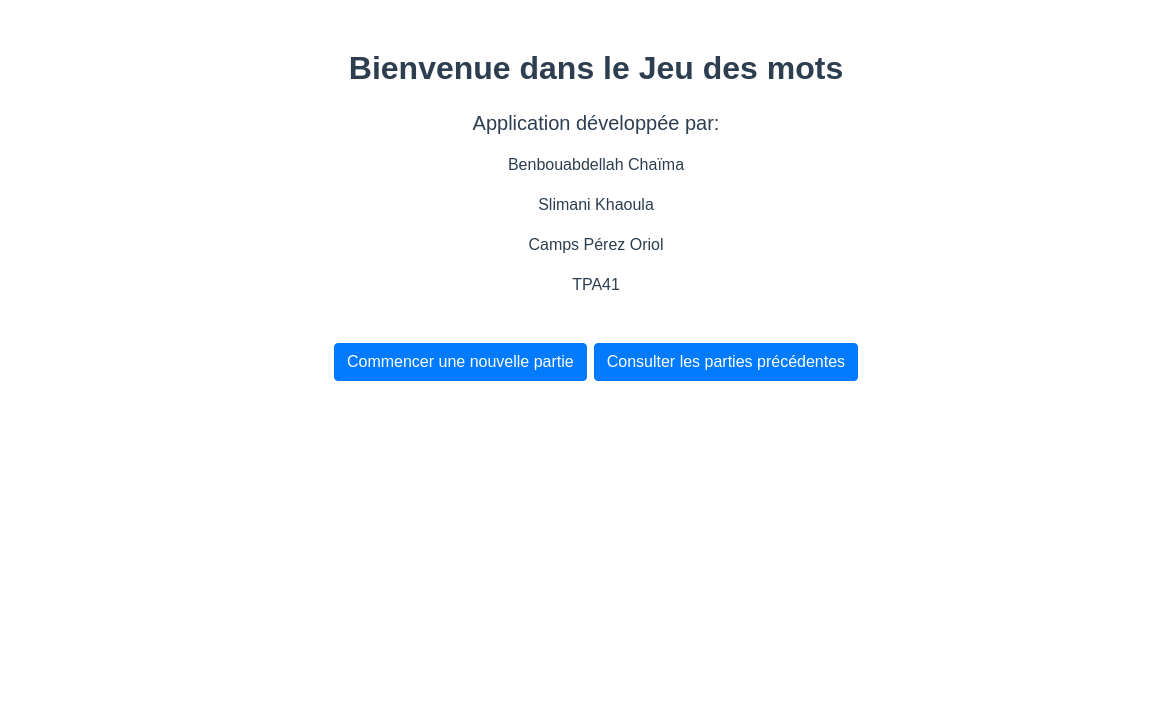
Test case: Make sure our todo list app is working well › Vérifiez que lorsque vous appuyez sur le bouton “abandonner la partie”, vous arrivez bien sur une page de défaite
Click the link with id "new-game": (461, 362) x1=334 y1=343 x2=587 y2=381
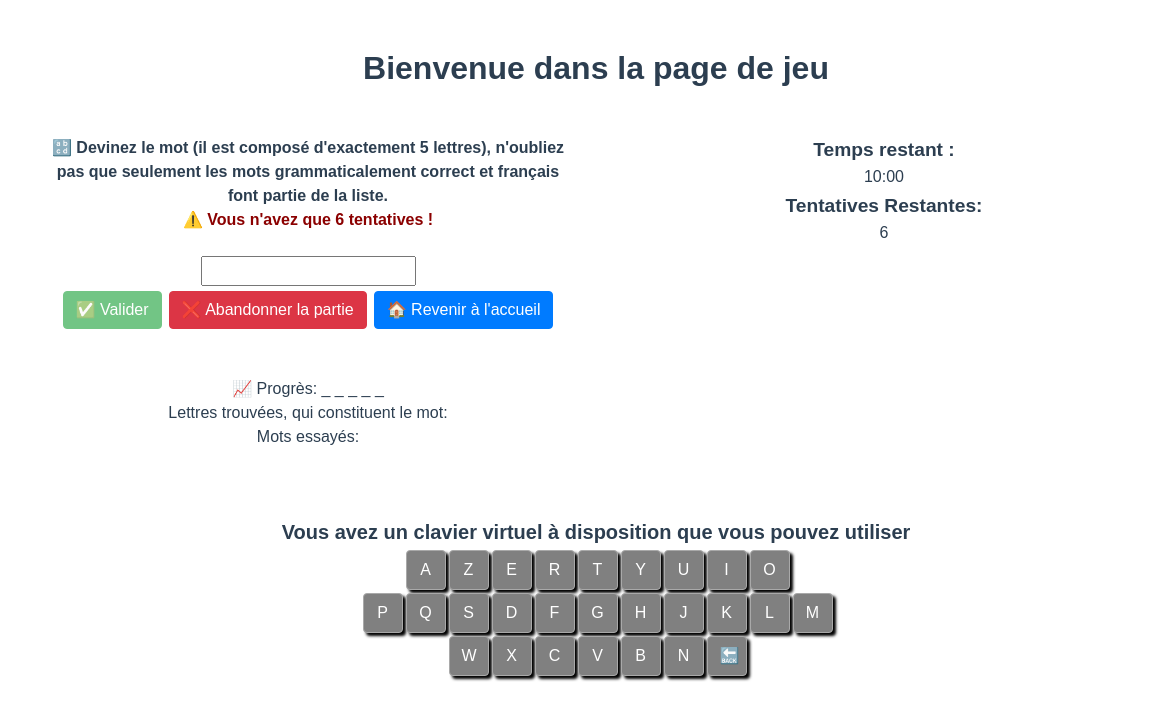
Click the link with id "abandon": (268, 310) x1=169 y1=291 x2=367 y2=329
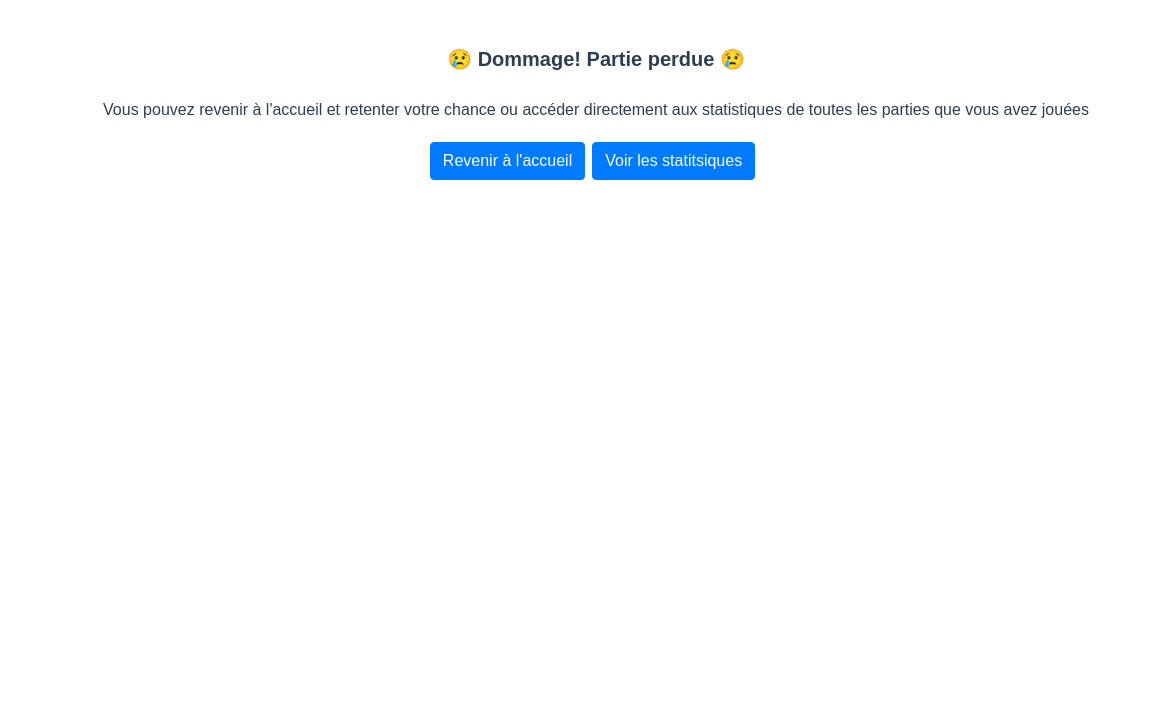
Expected: the element with id "defeat-page" is shown, x1=35 y1=44 x2=1151 y2=180
